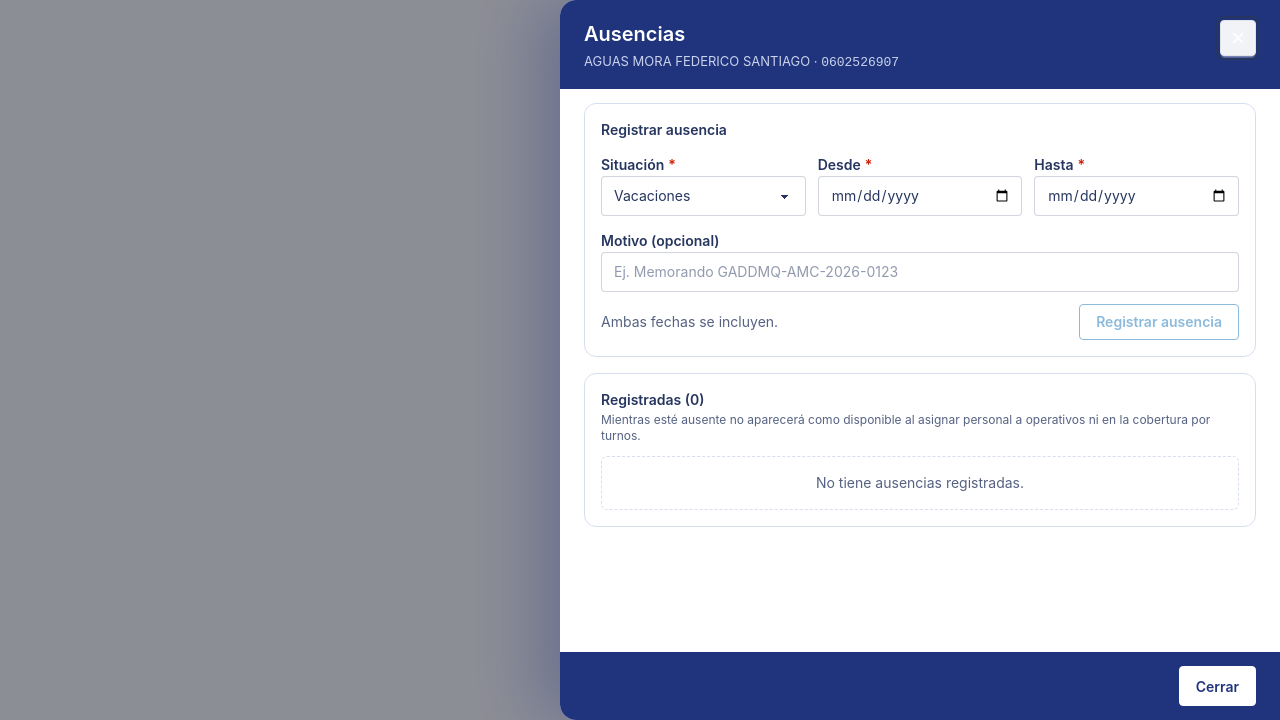
Test: Ausencias · mensaje en vivo › intentar sin fechas pide «Indique desde y hasta» (el botón se ve apagado pero responde)
Click the button "Registrar ausencia" at (1159, 322), box [1079,304,1239,340]
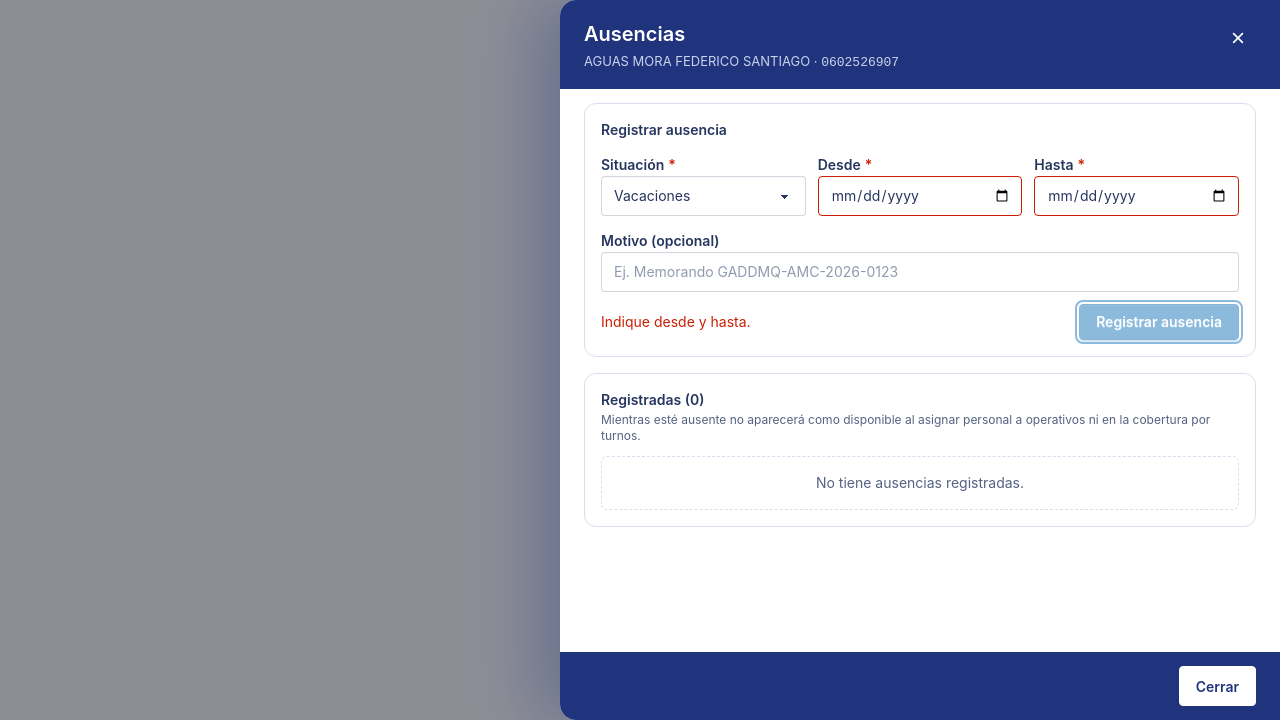
Check: the text "Indique desde y hasta." is shown, box [601,312,751,330]
